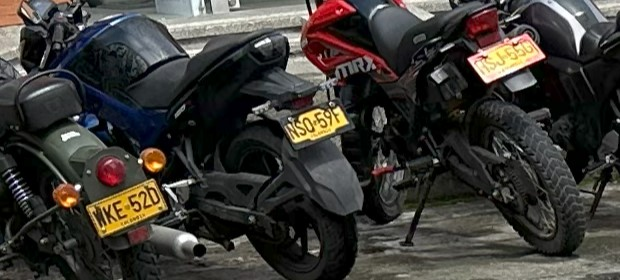number plate: (86, 179, 166, 237), (467, 34, 545, 83), (283, 102, 349, 145)
